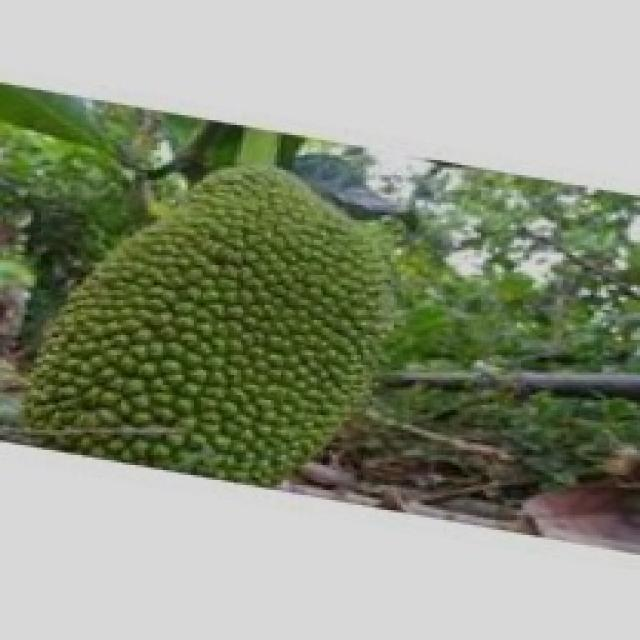Fruit: (0, 125, 437, 513)
